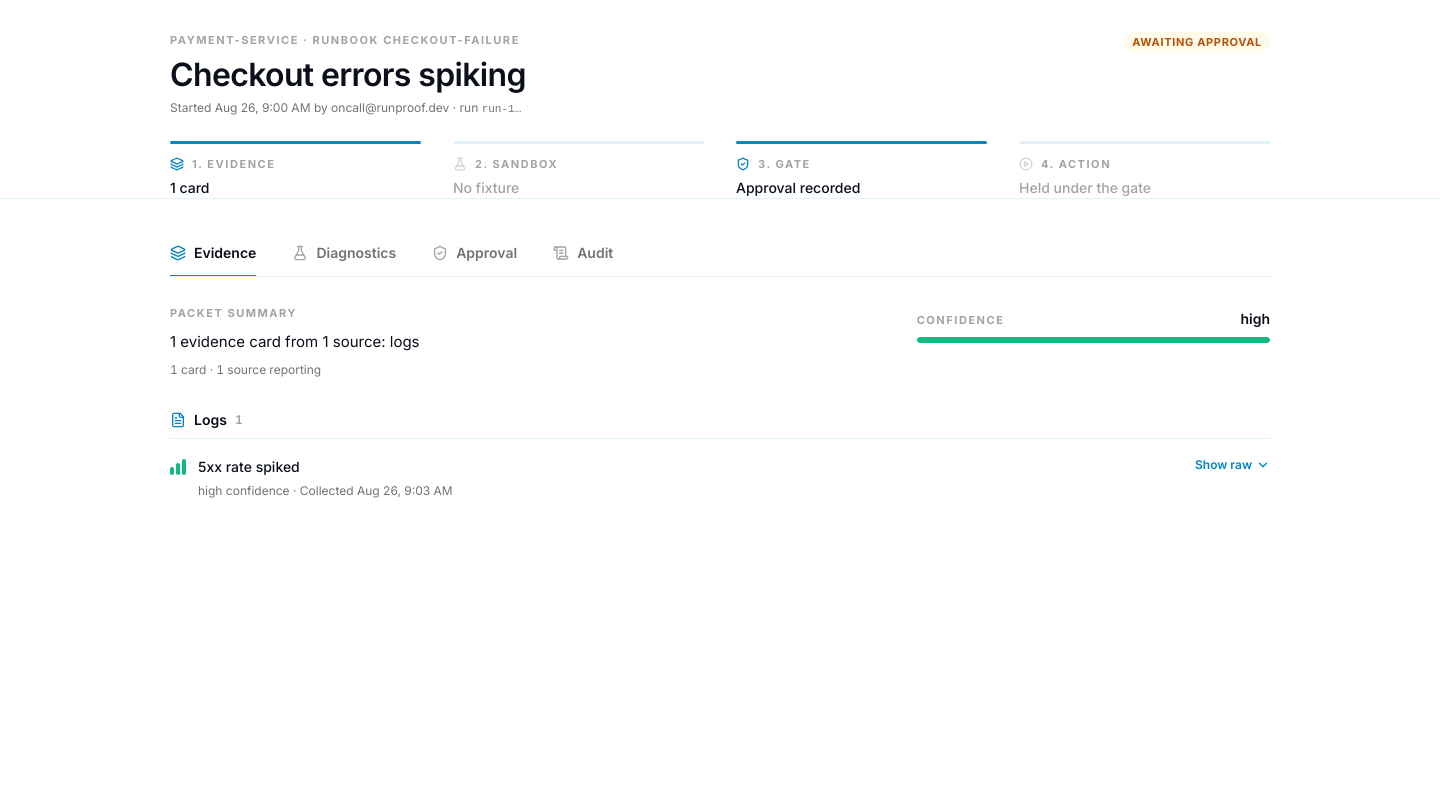
Scenario: RunDetailClient › Evidence tab › groups cards by source and expands to reveal the raw payload
Expected: the text "\"count\": 47" is not shown
Click the button "5xx rate spiked".
click(249, 466)  # box [170,439,1270,515]
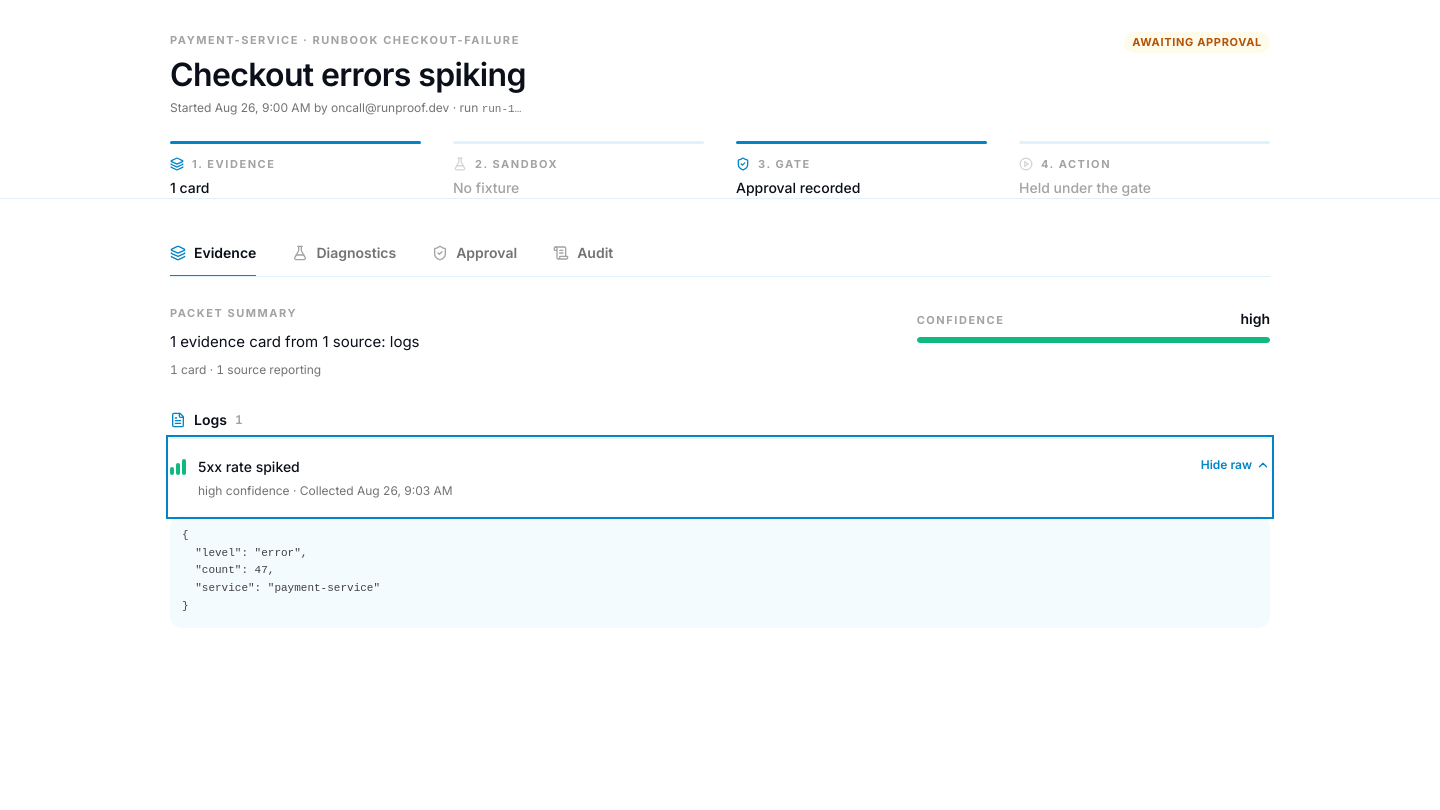
Expected: the text "\"count\": 47" is shown, [182,529,380,612]
